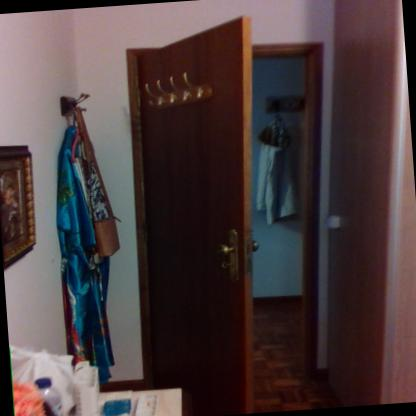semi: (107, 5, 361, 415)
